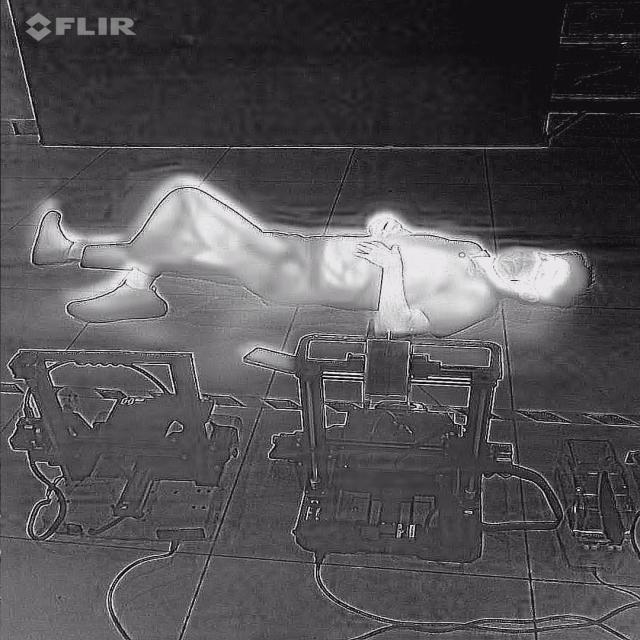Victim: (20, 177, 600, 339)
